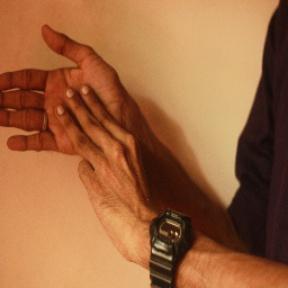M: (1, 24, 151, 188)
